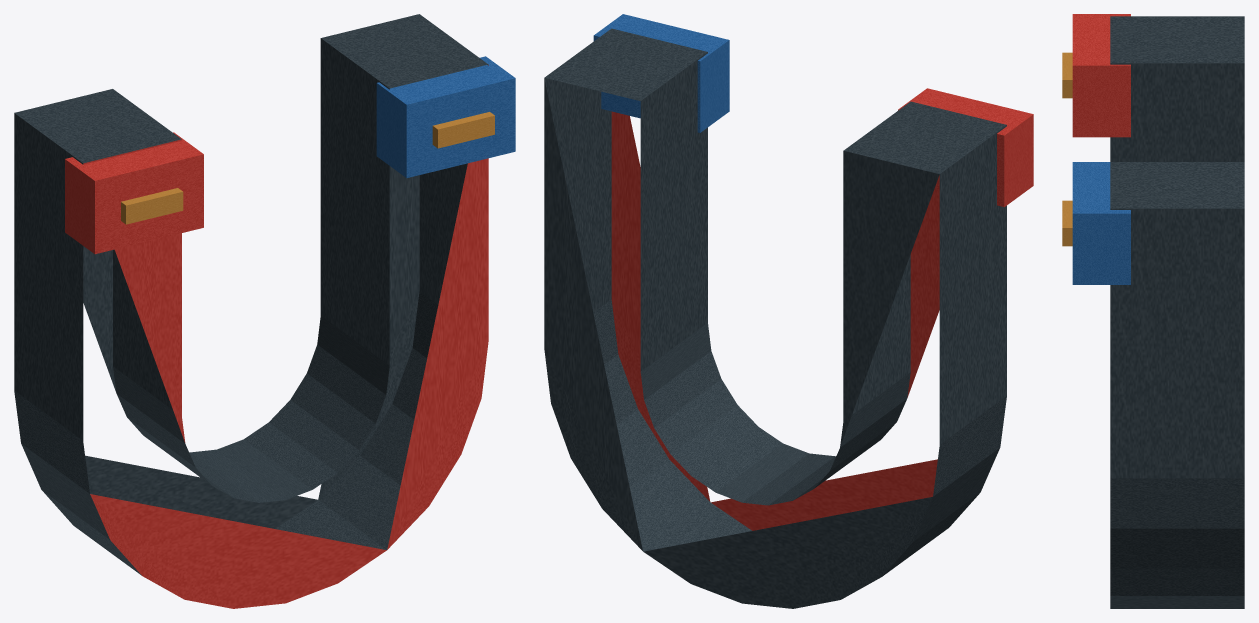
The model's file is ima_coleta.obj.
3 renders of one model, left to right at view 1: azimuth 30°, elevation 25°; view 2: azimuth 150°, elevation 25°; view 3: azimuth 270°, elevation 25°, orthographic. The views are drawn at different scales.
Visible parts, largest first — view 1: ima_coleta; view 2: ima_coleta; view 3: ima_coleta.
Part boxes in pixels (x1=…): ima_coleta: x1=14, y1=14, x2=515, y2=608; ima_coleta: x1=544, y1=14, x2=1033, y2=608; ima_coleta: x1=1062, y1=14, x2=1244, y2=608.
Size of the model in its own units: 1.62 by 1.8 by 0.625.
Materials: 4 (4 with a texture image).
